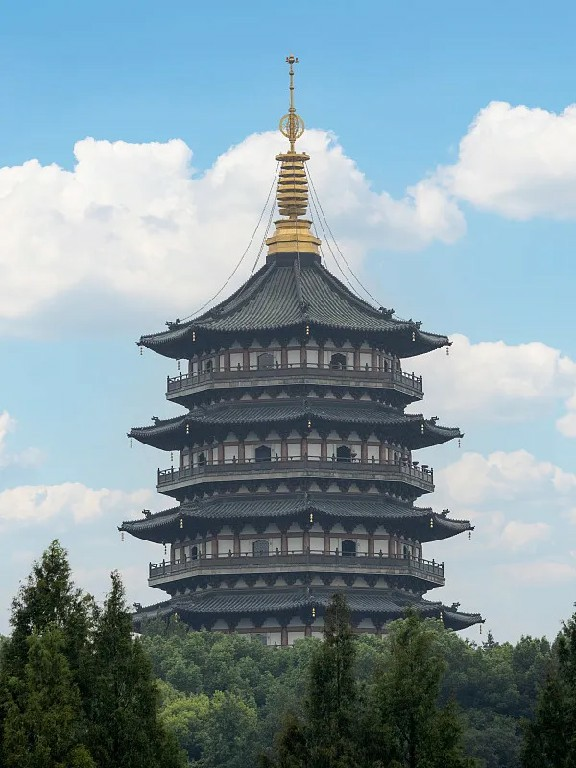Leifeng: (115, 49, 490, 657)
